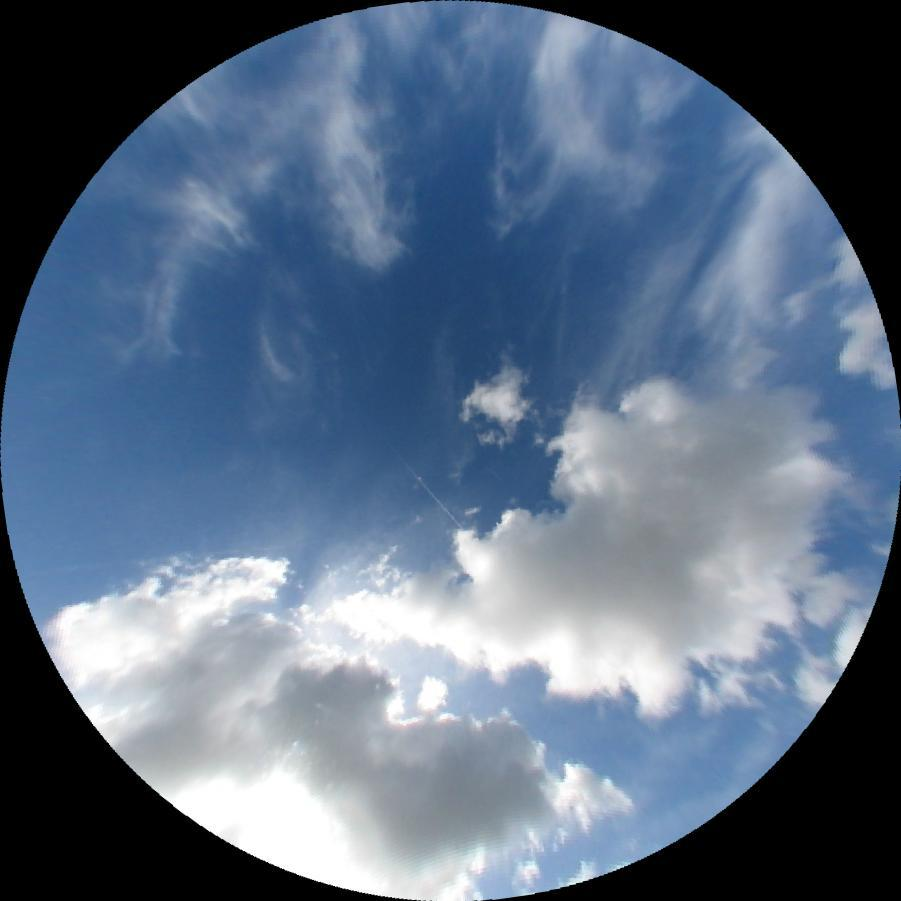contrail young: (397, 455, 463, 529)
